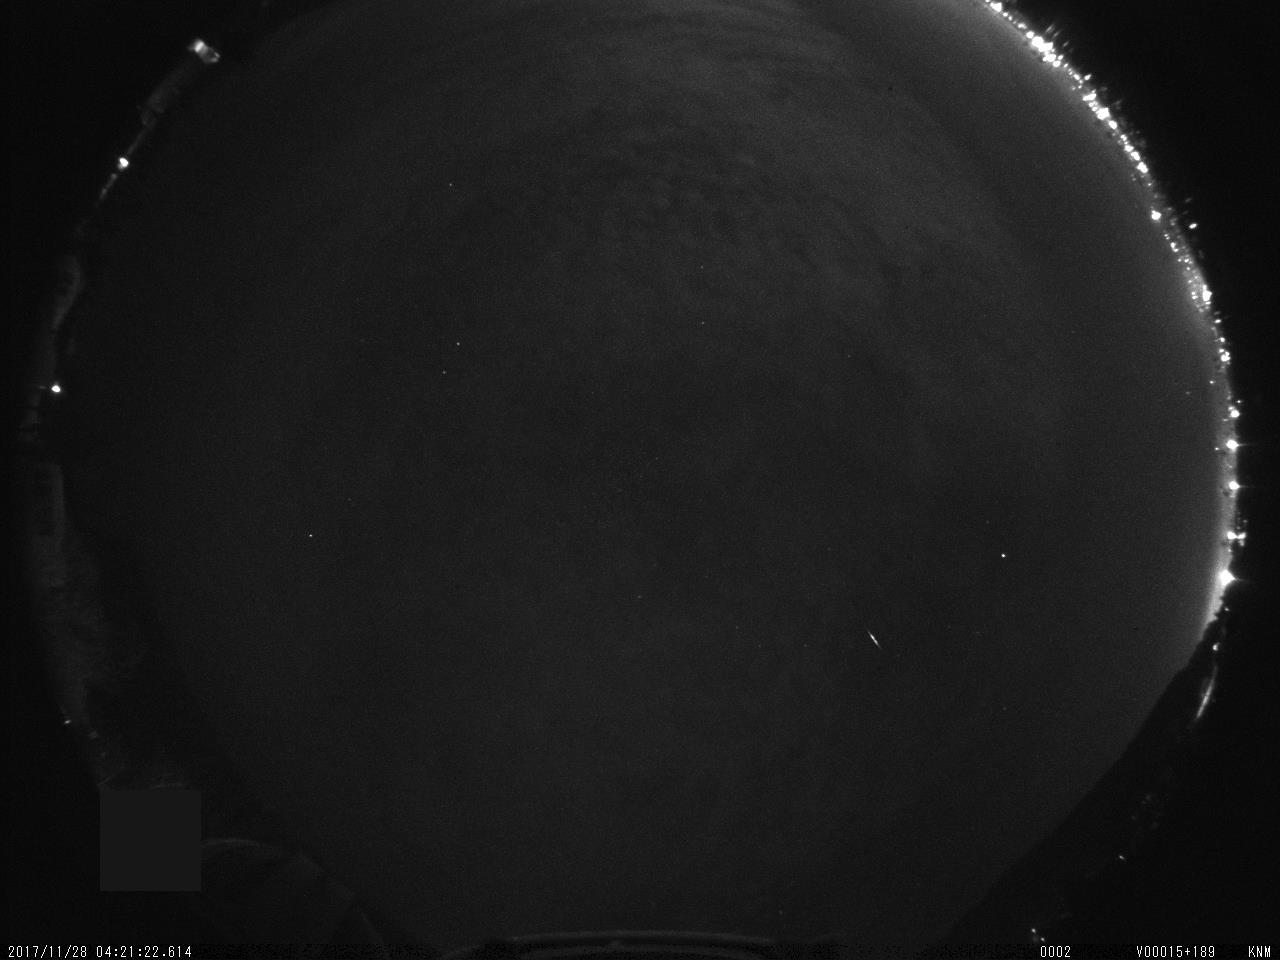meteor: (860, 627, 891, 657)
